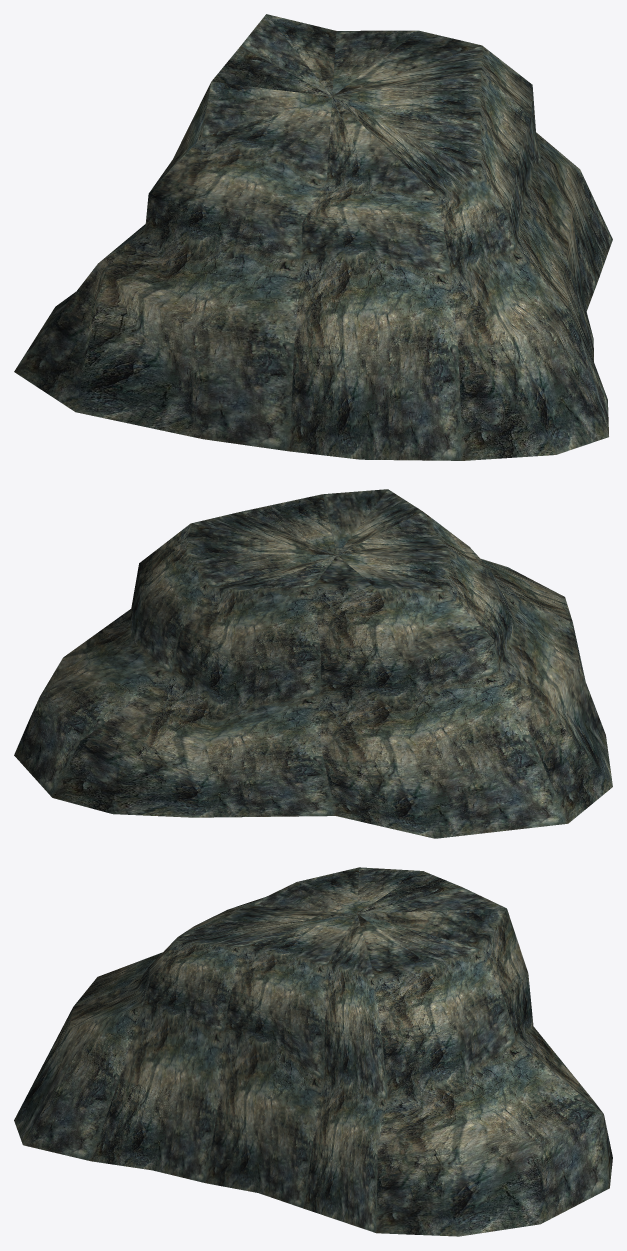
File: pir_m_are_isl_rockMed.fbx
3 views of the same model, one above another, from view 1: azimuth 30°, elevation 25°; view 2: azimuth 150°, elevation 25°; view 3: azimuth 270°, elevation 25° (orthographic). The views are drawn at different scales.
Parts seen in each view (by area): view 1: whole_island; view 2: whole_island; view 3: whole_island.
Part boxes in pixels (x1=…): whole_island: x1=14, y1=14, x2=612, y2=460; whole_island: x1=14, y1=489, x2=612, y2=838; whole_island: x1=14, y1=867, x2=612, y2=1236.
Bounding box in the file's own units: 74456 × 28528 × 74316.
1 material, 1 textured.
